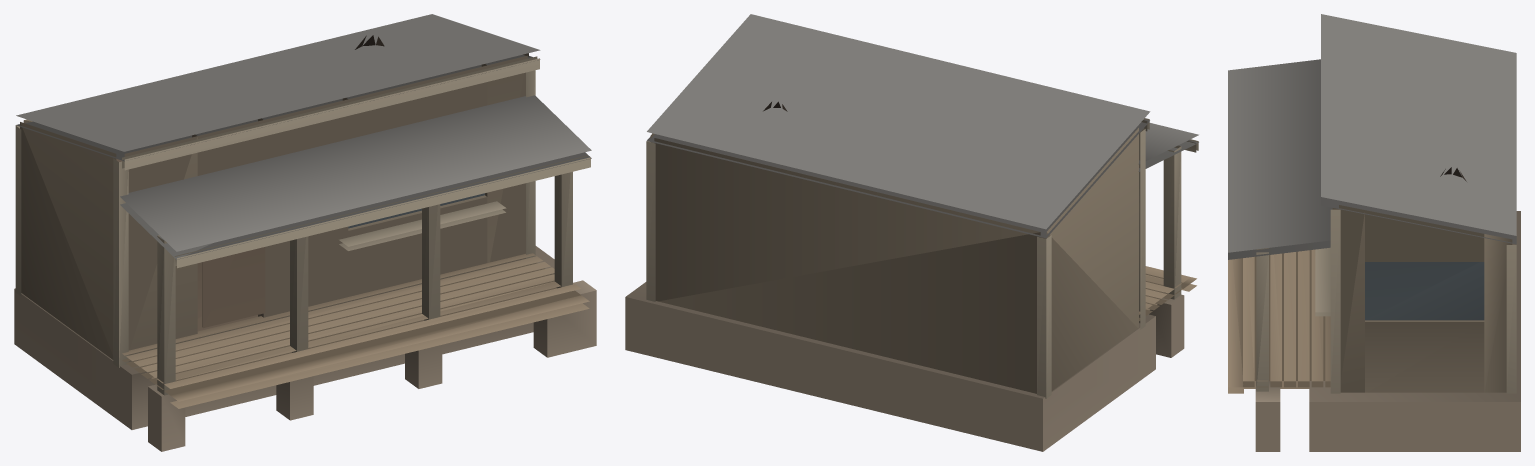
File: ranger.lod.glb
3 views of the same model, side by side, from view 1: azimuth 30°, elevation 25°; view 2: azimuth 150°, elevation 25°; view 3: azimuth 270°, elevation 25° (orthographic). The views are drawn at different scales.
Parts seen in each view (by area): view 1: ranger; view 2: ranger; view 3: ranger.
Part boxes in pixels (box(x1,y1,x2,y2)): ranger: box(14, 14, 596, 451); ranger: box(625, 14, 1198, 451); ranger: box(1228, 14, 1520, 451).
Size of the model in its own units: 8.48 by 5.09 by 5.48.
